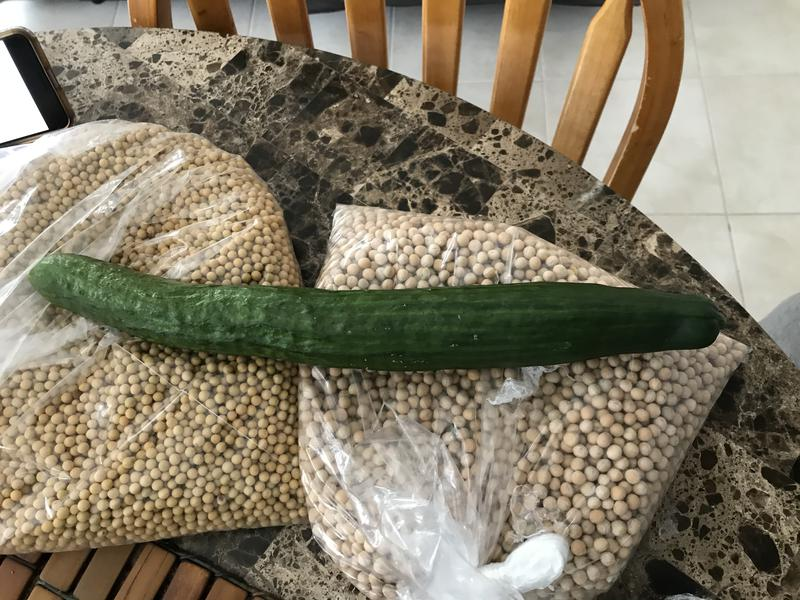cucumber: (26, 245, 728, 370)
